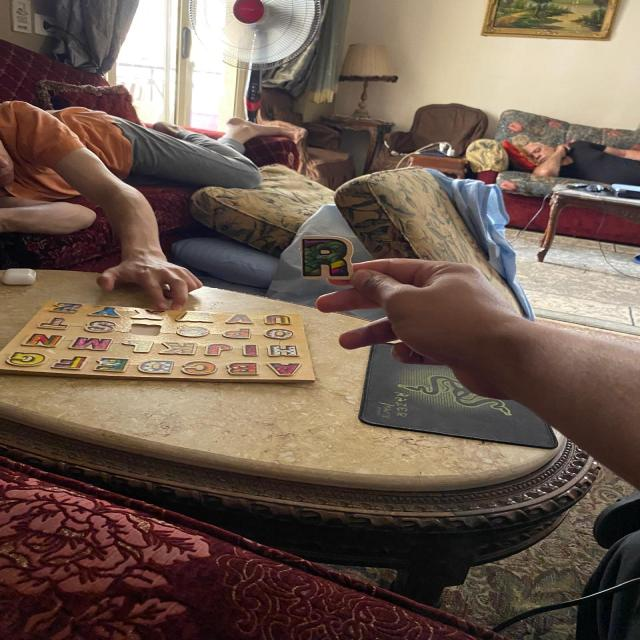R: (301, 235, 353, 280)
